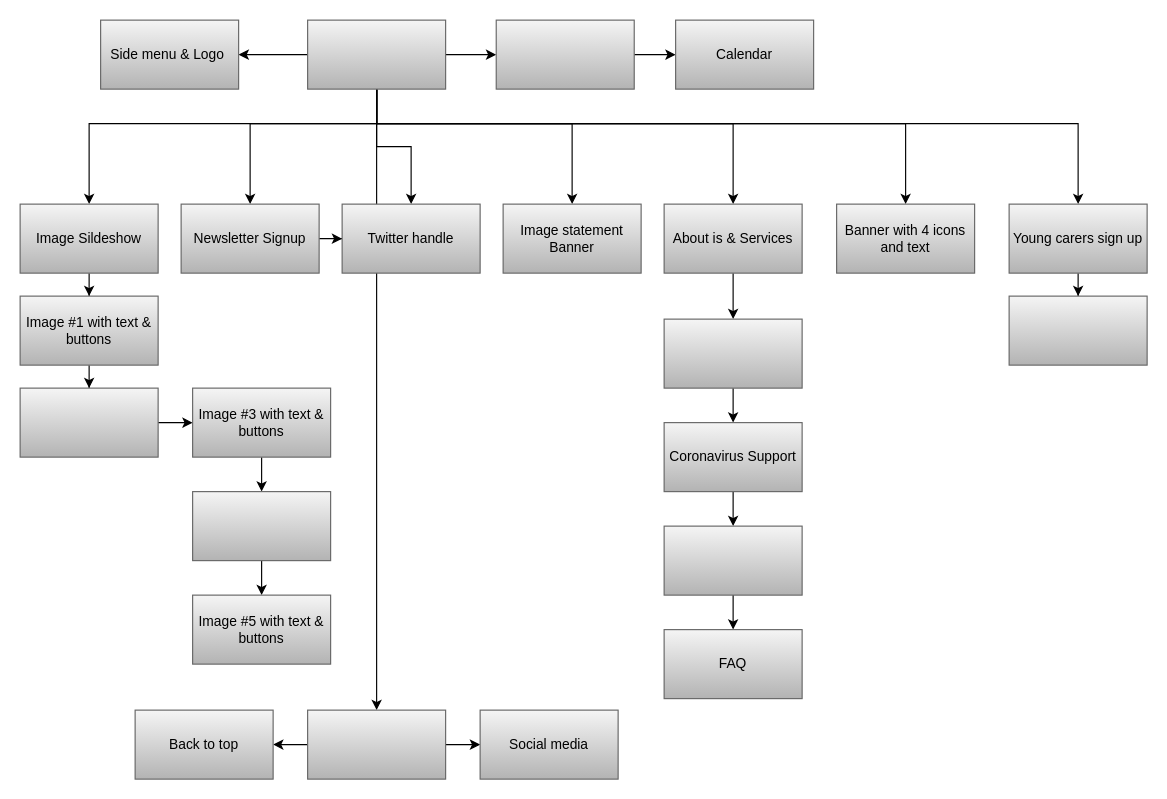
Image size: 1167x799. Some labels were removed from this diagram. The centre of each missing label's shape, as x and y in pixels:
Button: pixel 1077 330
Contact us: pixel 732 560
Footer: pixel 376 744
Header: pixel 376 54
Image #2 with text & buttons: pixel 88 422
Image #4 with text & buttons: pixel 261 525
Search bar: pixel 564 54
Shopping support service: pixel 732 353
